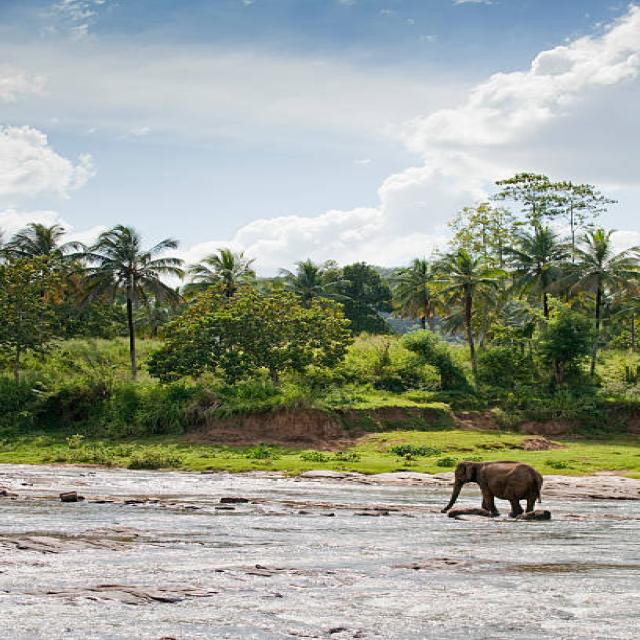Elephant: (440, 448, 561, 528)
